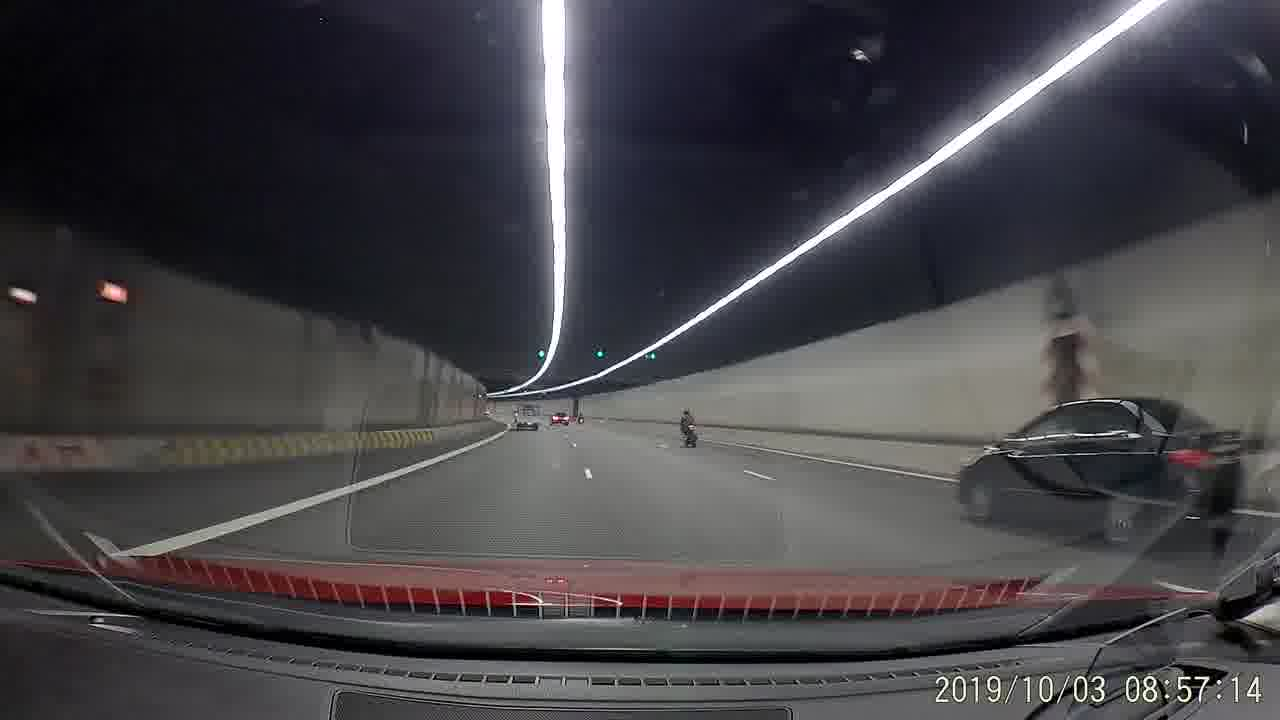car: (955, 395, 1242, 551)
